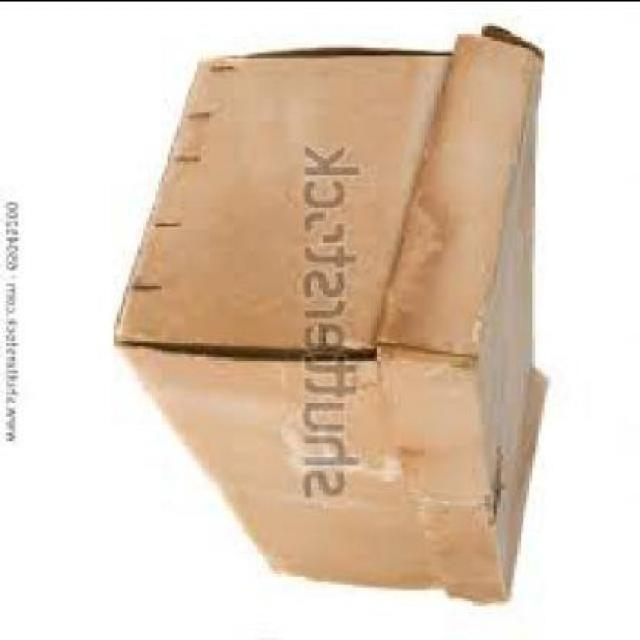box: (120, 31, 554, 615)
